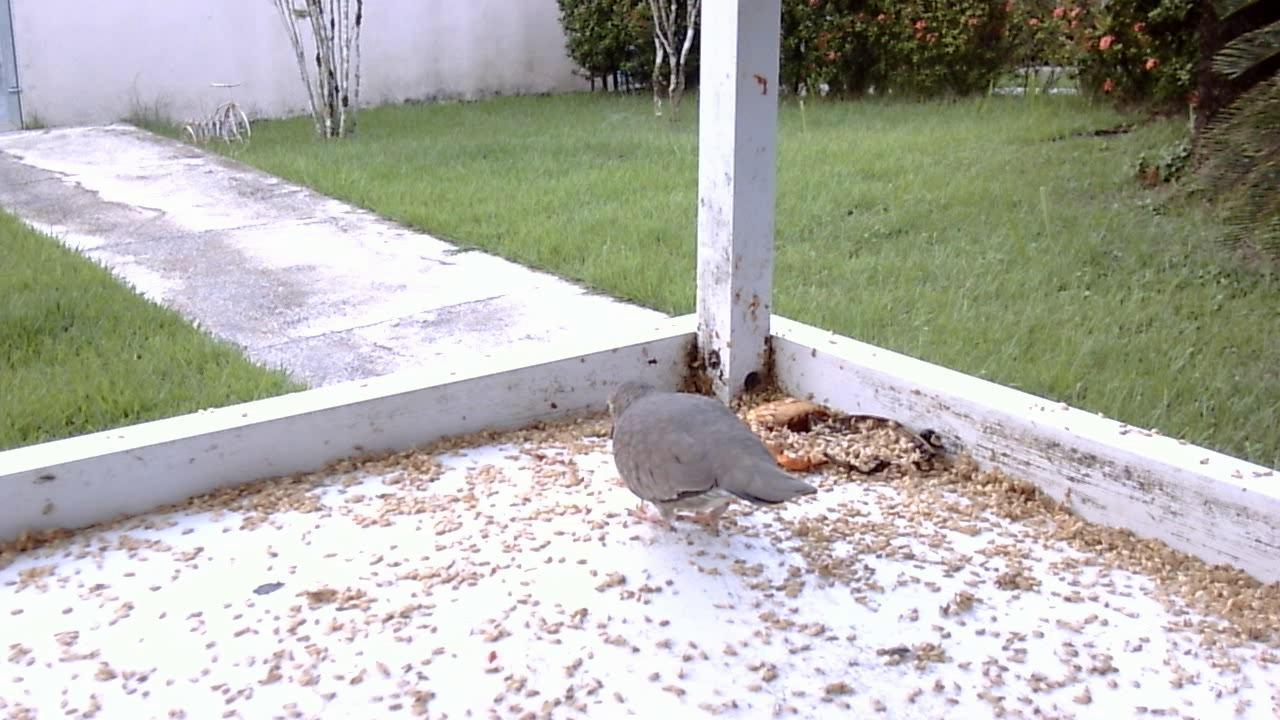rolinha: (600, 381, 818, 532)
